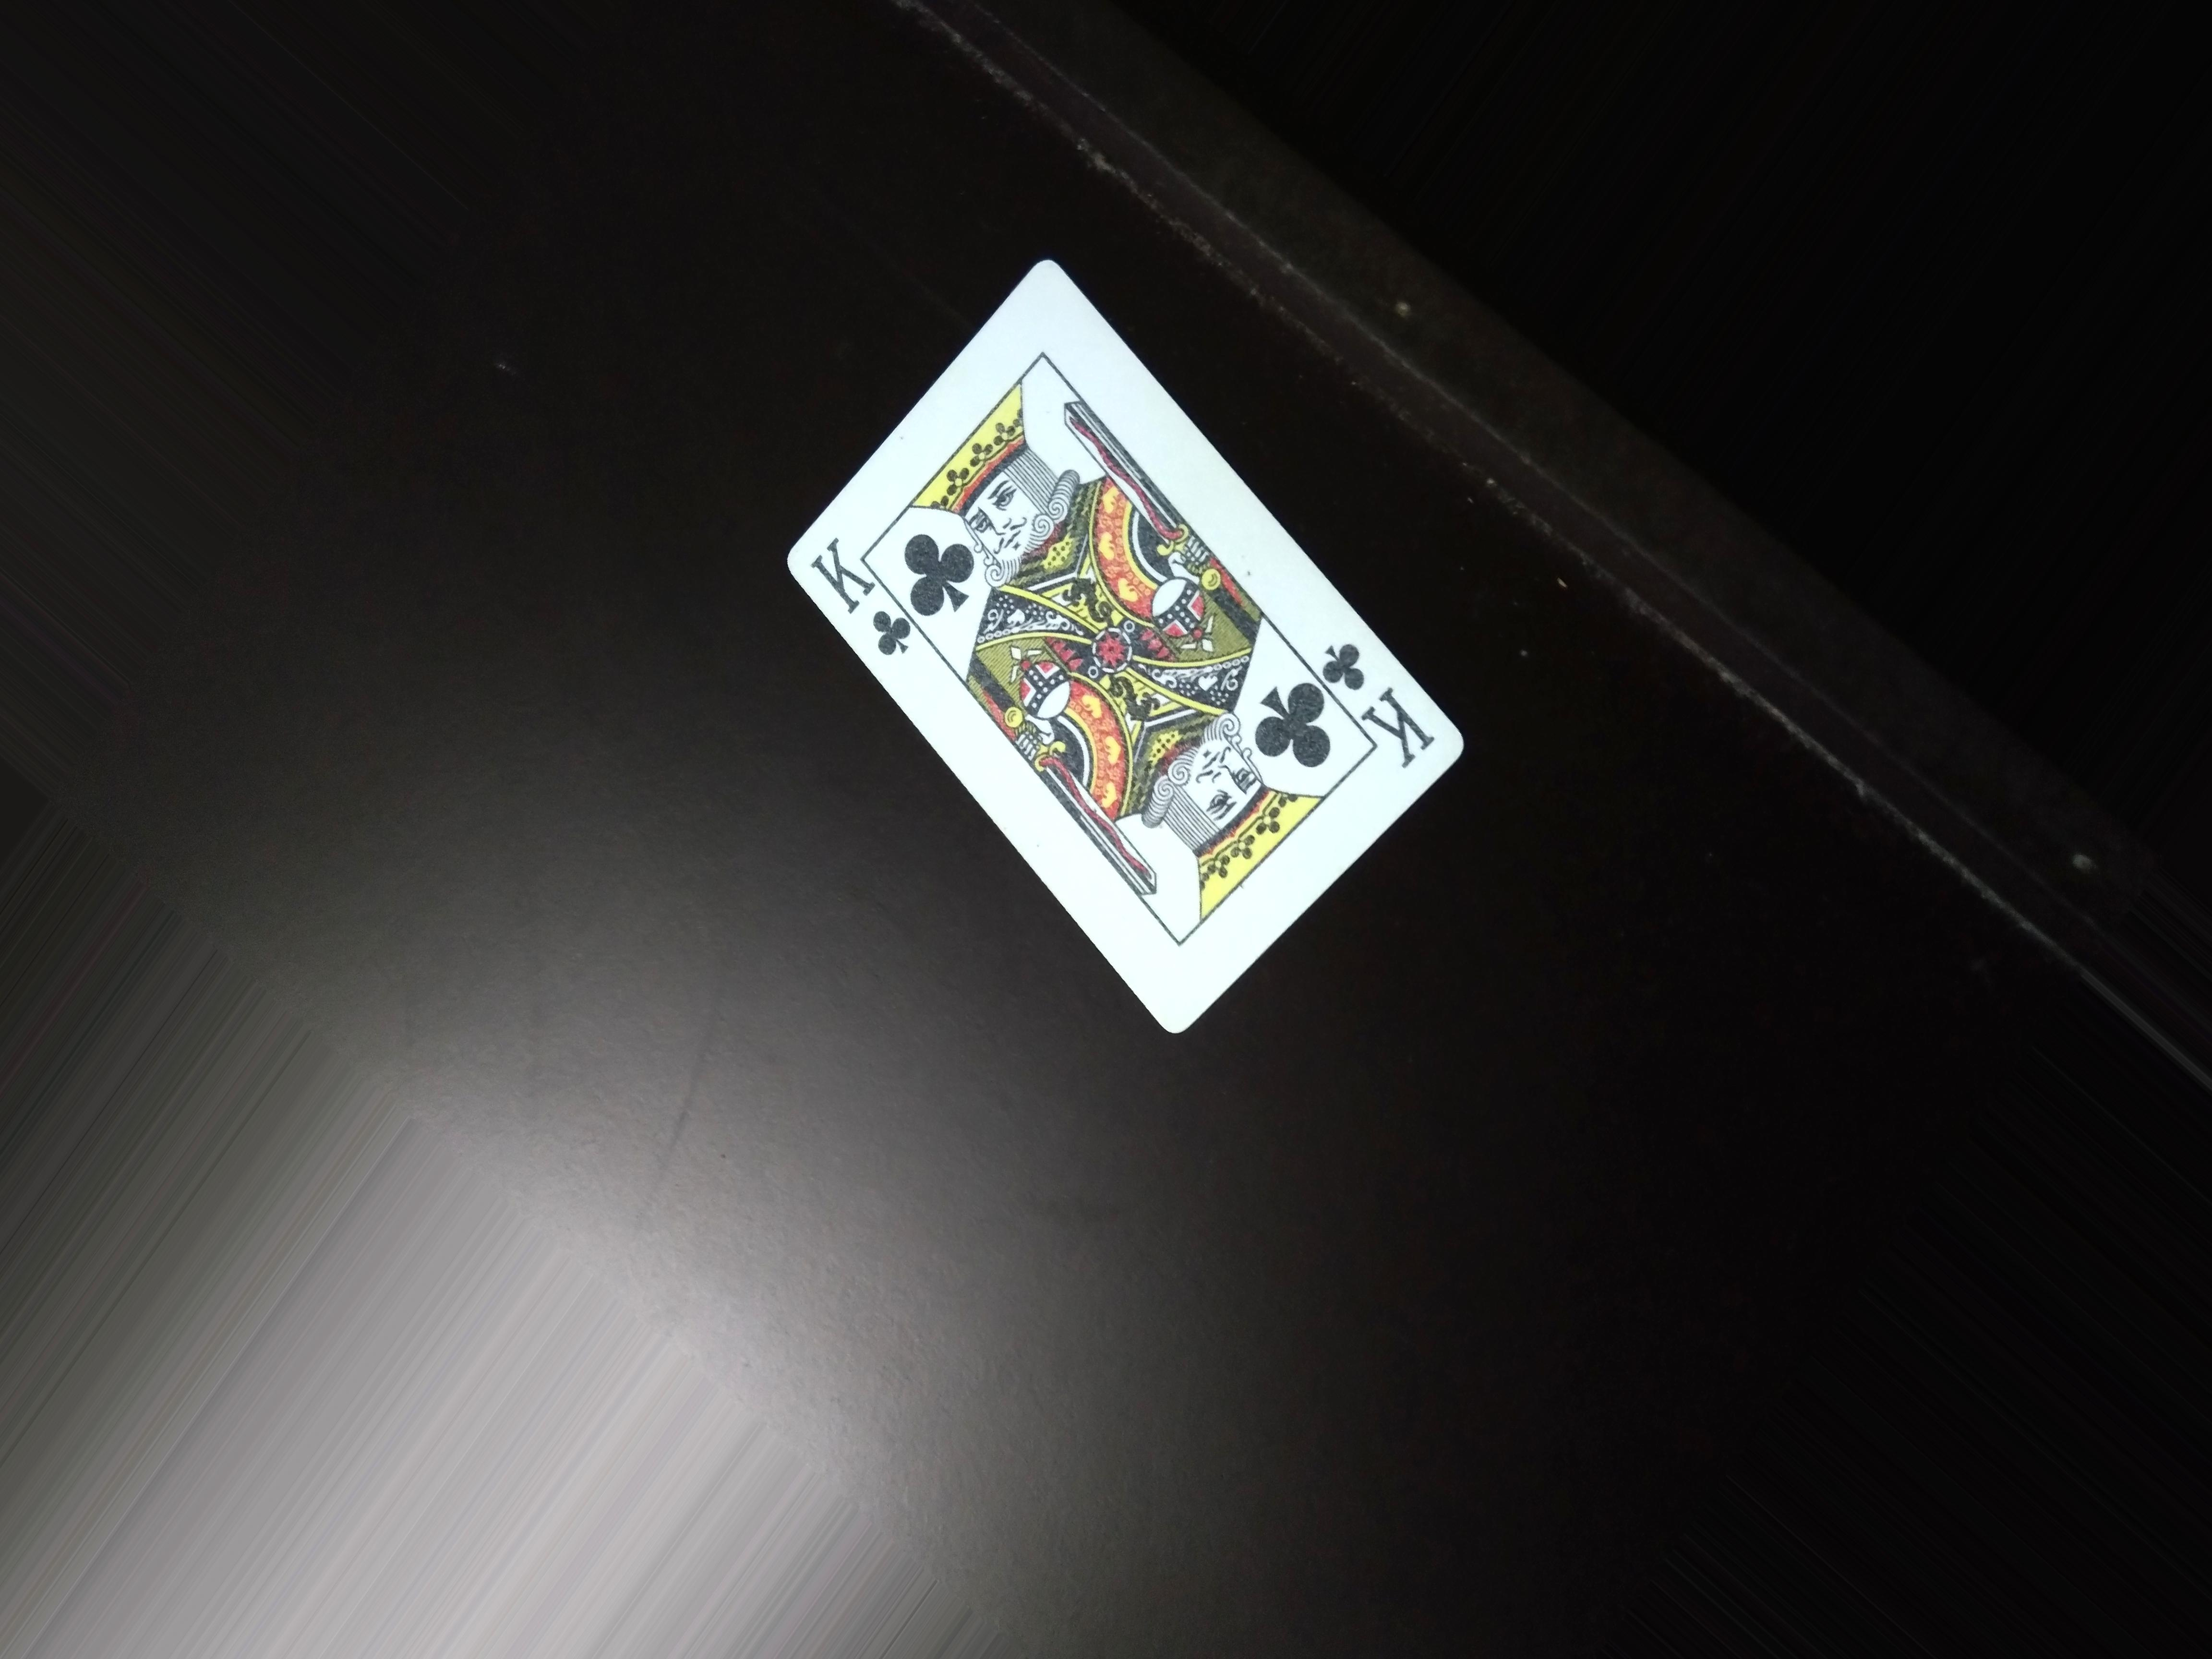KC: (805, 530, 916, 674)
